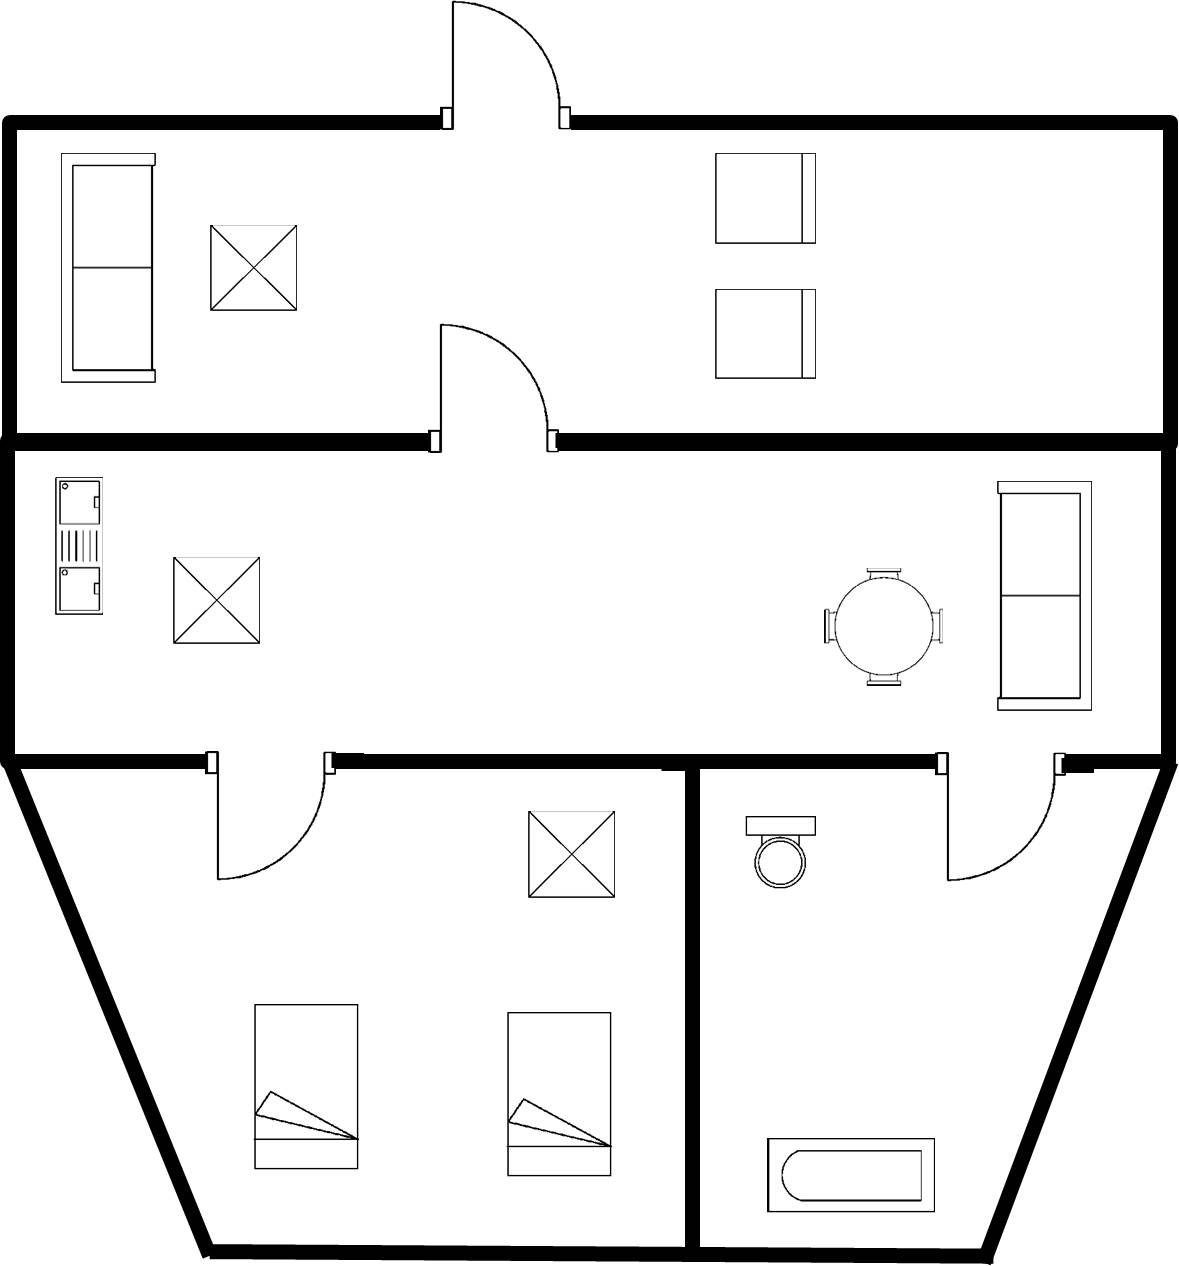bed: (245, 997, 368, 1180), (497, 1004, 621, 1186)
coffee_table: (517, 801, 624, 910), (194, 217, 308, 318), (164, 548, 270, 655)
large_sink: (738, 806, 823, 897)
large_sofa: (50, 142, 163, 399), (986, 470, 1103, 718)
round_table: (816, 557, 955, 697)
small_sofa: (705, 280, 824, 389), (705, 146, 823, 254)
tub: (758, 1133, 943, 1220)
twin_sink: (44, 470, 110, 621)
